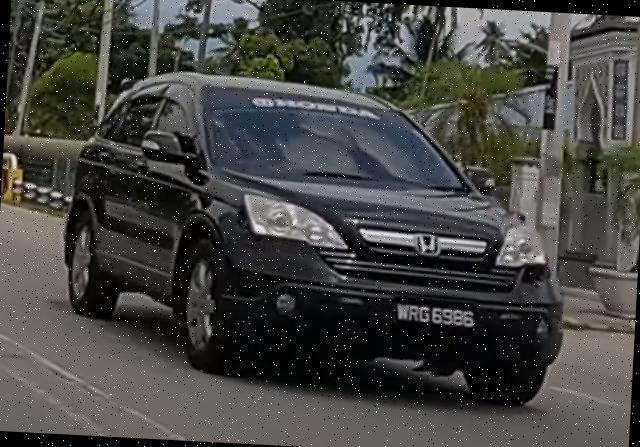License_Plate: (393, 300, 478, 331)
car: (56, 64, 577, 409)
